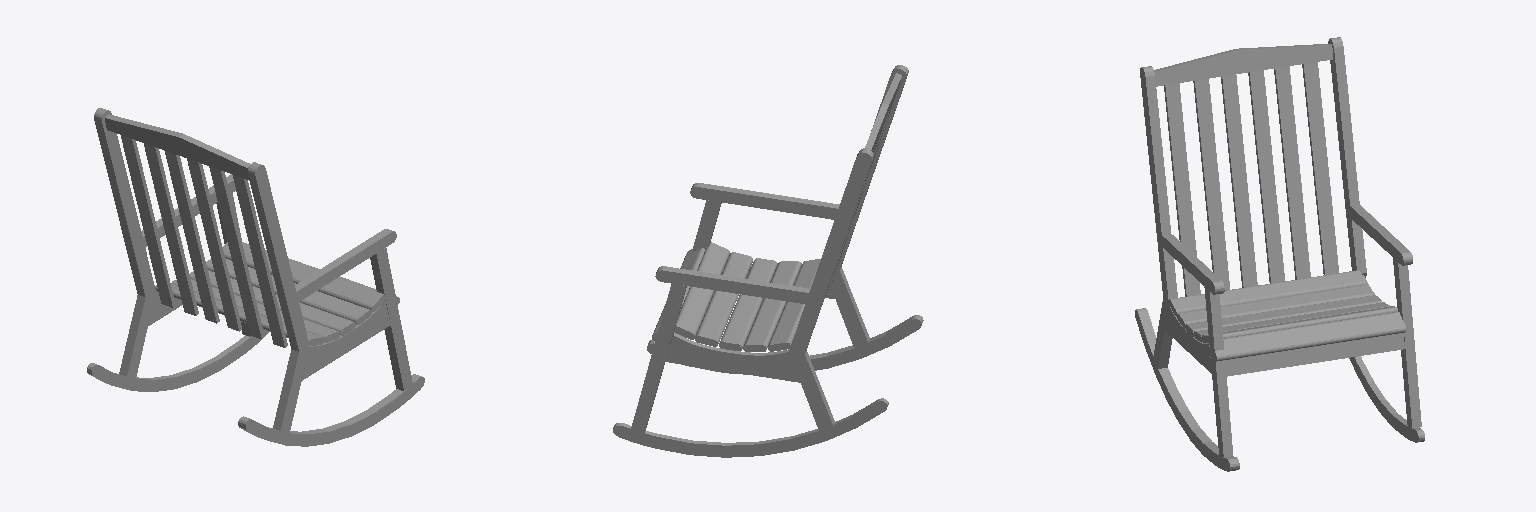
The model's file is chair3.obj.
The picture shows the model from 3 angles: view 1: azimuth 30°, elevation 25°; view 2: azimuth 150°, elevation 25°; view 3: azimuth 270°, elevation 25°; orthographic projection.
Visible parts, largest first — view 1: Shape011; view 2: Shape011; view 3: Shape011.
Boxes of the visible parts, x1=… form: Shape011: x1=87, y1=108, x2=424, y2=446; Shape011: x1=613, y1=65, x2=923, y2=457; Shape011: x1=1135, y1=37, x2=1424, y2=471.
Size of the model in its own units: 0.7179 by 0.7625 by 0.6252.